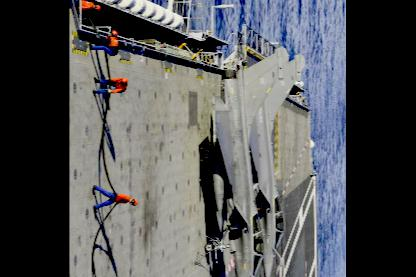RQ4: (201, 44, 290, 276), (250, 51, 308, 276)
